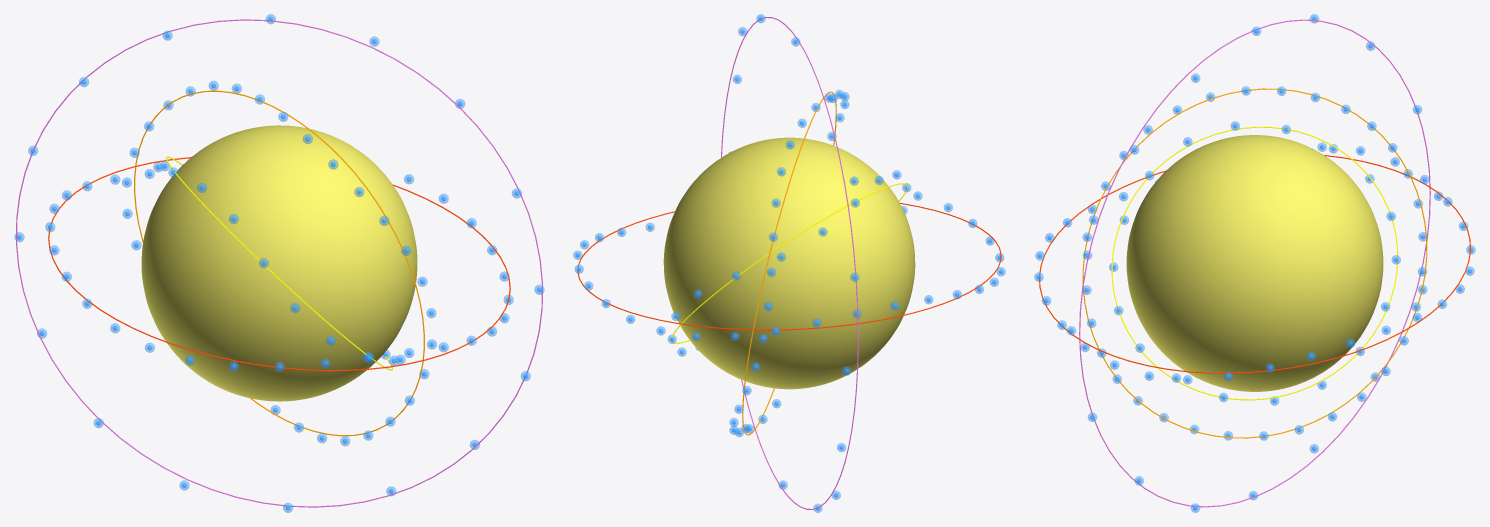
3 views of the same model, side by side, from view 1: azimuth 30°, elevation 25°; view 2: azimuth 150°, elevation 25°; view 3: azimuth 270°, elevation 25° (orthographic). The views are drawn at different scales.
Visible parts, largest first — view 1: Hs, object 191, object 126, object 61; view 2: Hs, object 191, object 126, object 61, object 24; view 3: Hs, object 191, object 61, object 126, object 24.
Part boxes in pixels (<box>): Hs: <box>141,125,417,401</box>; object 191: <box>16,19,542,507</box>; object 126: <box>48,157,510,371</box>; object 61: <box>134,90,424,436</box>; Hs: <box>663,137,915,389</box>; object 191: <box>721,17,858,509</box>; object 126: <box>577,203,1001,330</box>; object 61: <box>742,91,836,435</box>; object 24: <box>671,183,907,343</box>; Hs: <box>1126,135,1383,391</box>; object 191: <box>1079,19,1430,507</box>; object 61: <box>1082,88,1427,438</box>; object 126: <box>1039,155,1470,373</box>; object 24: <box>1111,126,1398,400</box>.
Bounding box in the file's own units: 7.33 × 8.56 × 7.35.
